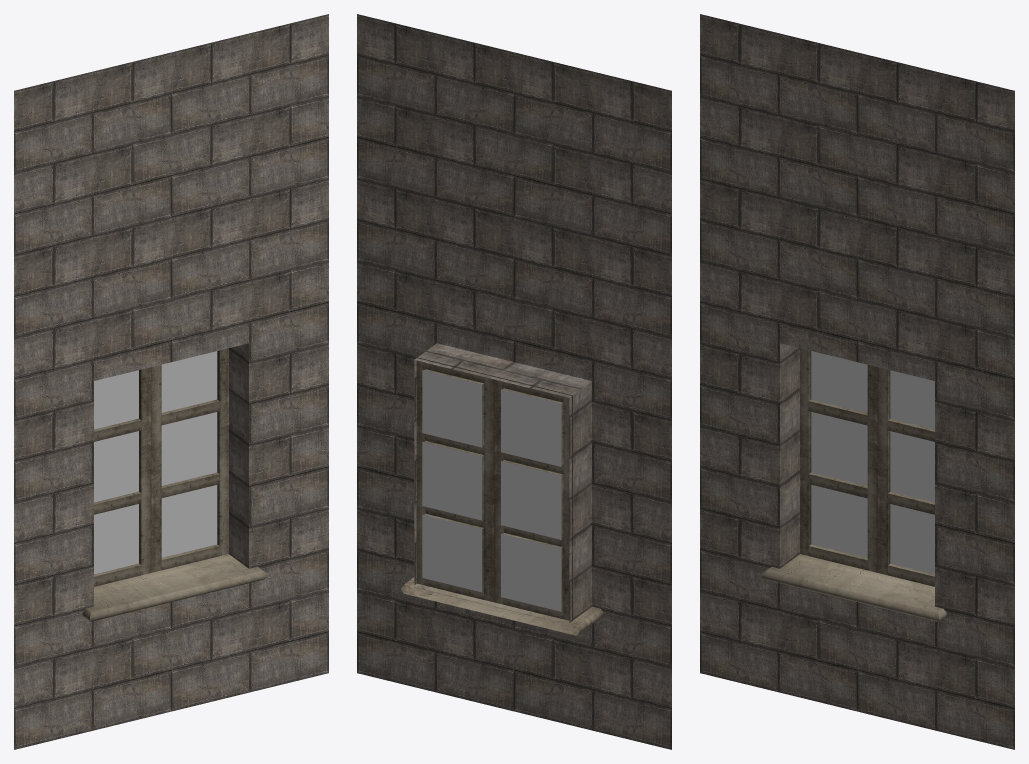
The model's file is exterior_walls_bare_window_02_unlit.DAE.
3 renders of one model, left to right at view 1: azimuth 30°, elevation 25°; view 2: azimuth 150°, elevation 25°; view 3: azimuth 330°, elevation 25°, orthographic.
Visible parts, largest first — view 1: Box023, Object011, Object010; view 2: Box023, Object011, Object010; view 3: Box023, Object011, Object010.
Part boxes in pixels (box(x1,y1,x2,y2)): Box023: box(14, 14, 328, 749); Object011: box(94, 351, 217, 574); Object010: box(82, 348, 267, 621); Box023: box(357, 14, 671, 749); Object011: box(422, 370, 561, 611); Object010: box(401, 357, 603, 635); Box023: box(700, 14, 1014, 749); Object011: box(811, 351, 934, 574); Object010: box(761, 348, 946, 621).
Bounding box in the file's own units: 4 × 8 × 0.6922.
